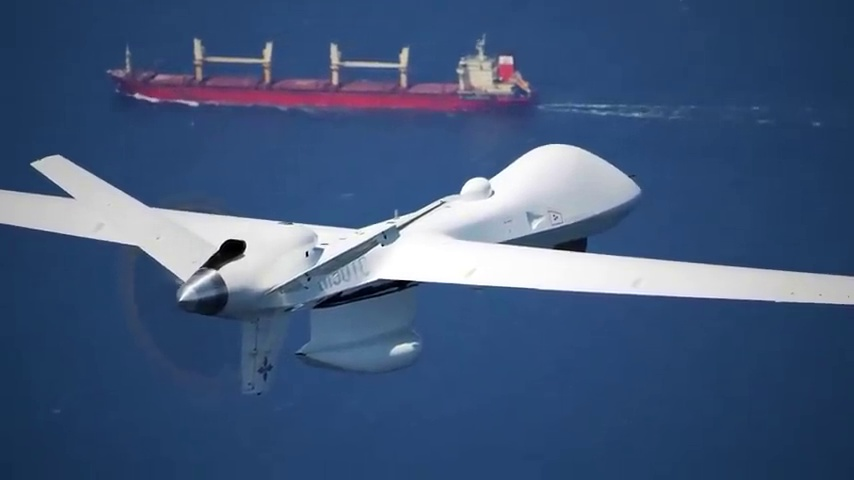military drone: (0, 143, 854, 396)
